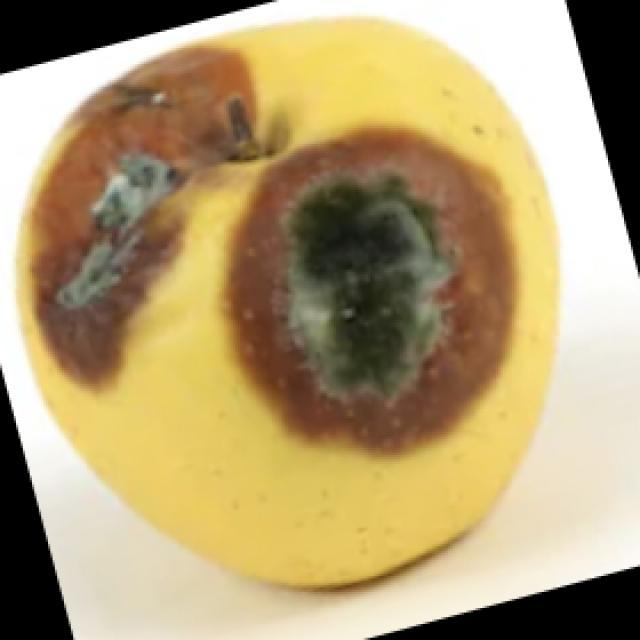Rotten: (28, 22, 555, 603)
